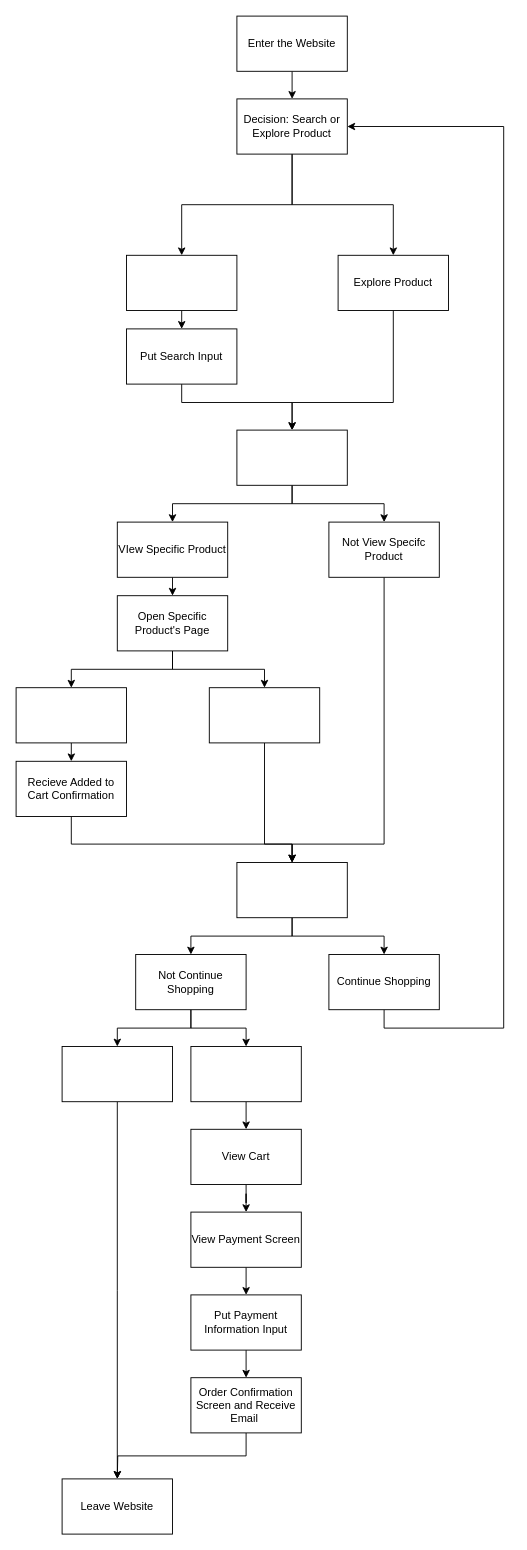
Image size: 527x1550. Some labels were removed from this diagram. The centre of each missing label's shape, as x and y in pixels:
"Add to cart" goes at (x=70, y=715).
"Checkout" goes at (x=245, y=1074).
"Decision: Continue to Shopping or not" goes at (x=291, y=890).
"Do no Checkout" goes at (x=116, y=1074).
"Look Over Products" goes at (x=291, y=457).
"Not Add to Cart" goes at (x=264, y=715).
"Search Product" goes at (x=181, y=282).
